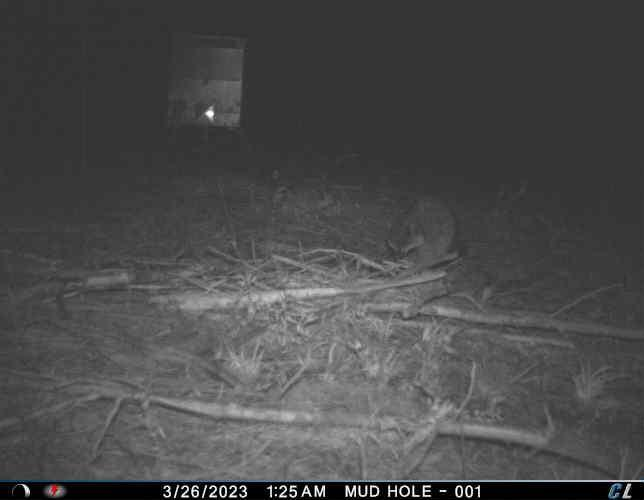Raccoon: (387, 193, 459, 274)
